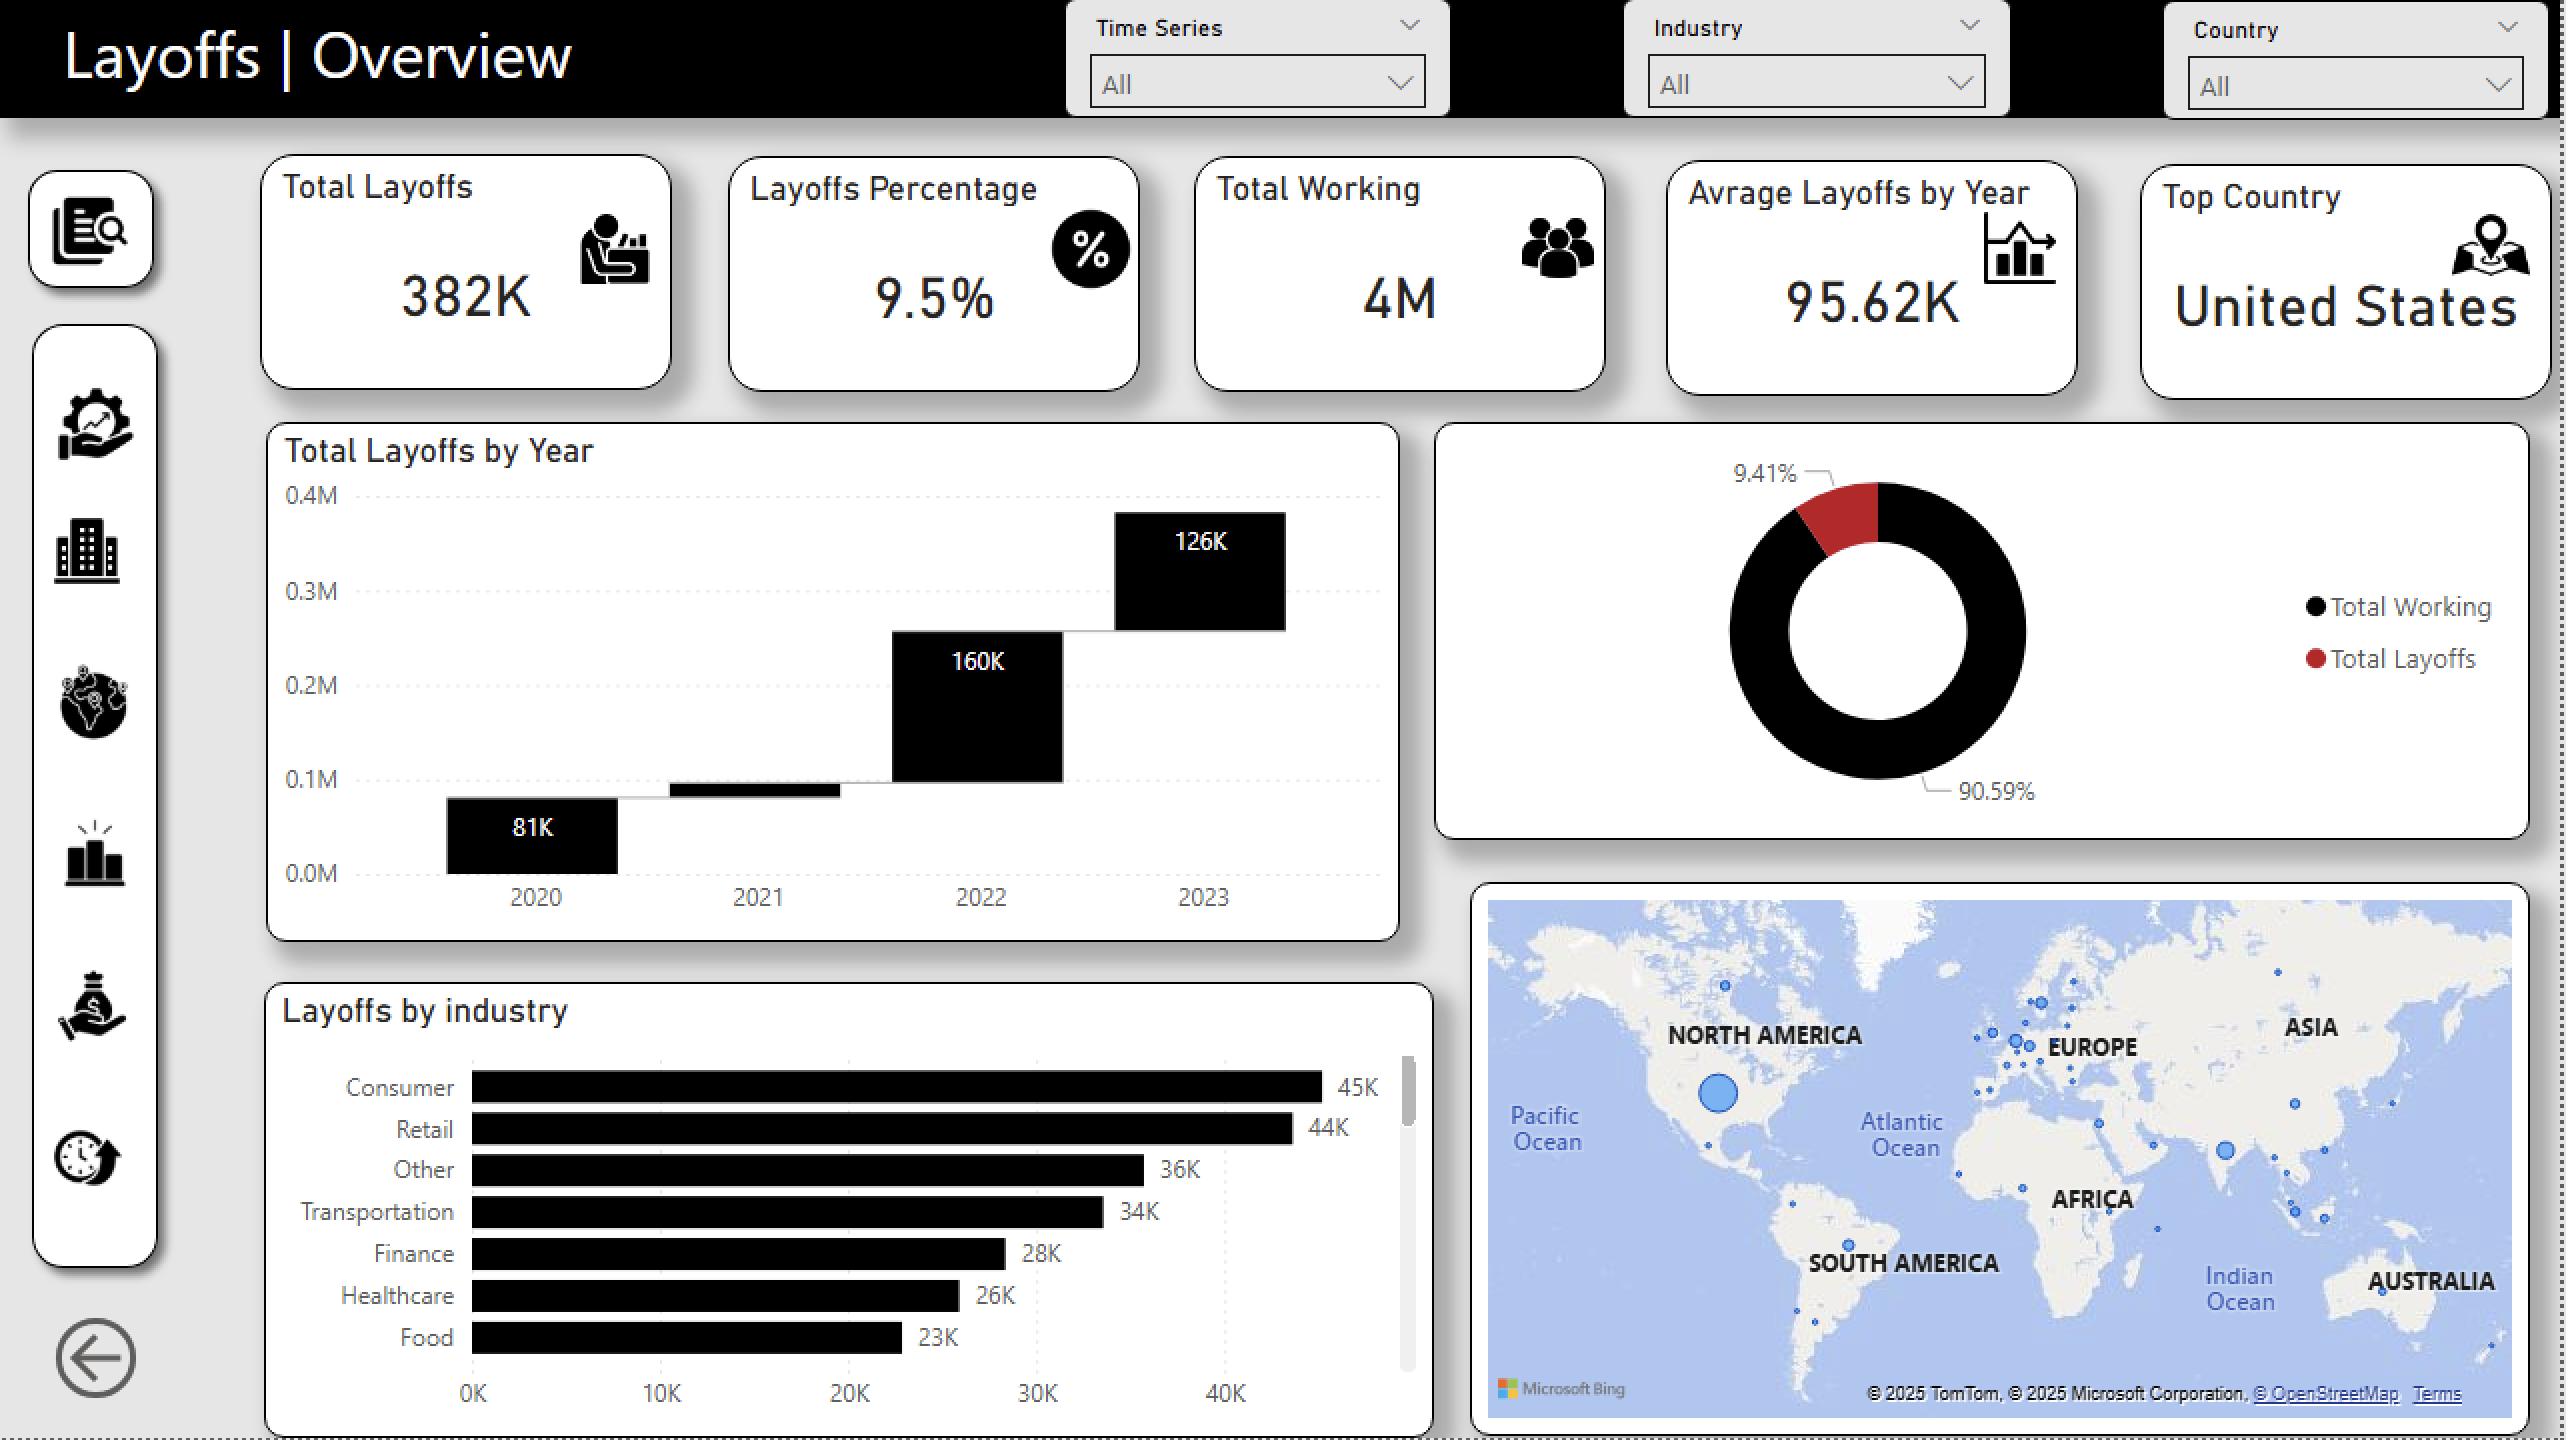

What the dashboard file says about the page in this screenshot:
{"tool":"powerbi","page":{"name":"Overview","canvas":[1280,720],"ordinal":0},"visuals":[{"type":"shape","box":[7.1,153.8,80.4,489.8],"z":0},{"type":"actionButton","box":[23.4,188.4,62.1,49.9],"z":1000},{"type":"actionButton","box":[22.8,328.4,55.7,47.4],"z":2000},{"type":"actionButton","box":[21.4,253.6,55,45.8],"z":3000},{"type":"actionButton","box":[24.4,481.7,56,44.8],"z":4000},{"type":"actionButton","box":[24.6,405.1,54.7,44.7],"z":5000},{"type":"actionButton","box":[22.4,558,45.8,43.8],"z":6000},{"type":"textbox","box":[0,0,1280,60.4],"z":7000},{"type":"card","title":"Total Layoffs","fields":{"Values":["_Measures.Total Layoffs"]},"box":[129.8,78.3,206.1,117.9],"z":8000},{"type":"image","box":[287.2,107.9,40.7,34.6],"z":9000},{"type":"slicer","fields":{"Values":["Calendar.Date.Variation.Date Hierarchy.Year"]},"box":[532,0,194.2,60.4],"z":10000},{"type":"slicer","fields":{"Values":["layoffs_db layoffs_staging2.country"]},"box":[1080.9,1,194.2,60.4],"z":11000},{"type":"slicer","fields":{"Values":["layoffs_db layoffs_staging2.industry"]},"box":[811.4,0,194.2,60.4],"z":12000},{"type":"card","title":"Layoffs Percentage","fields":{"Values":["_Measures.Overall Layoff %"]},"box":[363.6,79.3,206.1,117.9],"z":13000},{"type":"card","title":"Total Working","fields":{"Values":["_Measures.Total Working"]},"box":[597.4,79.3,206.1,117.9],"z":14000},{"type":"image","box":[522.4,104.9,46.8,40.7],"z":15000},{"type":"image","box":[754.6,106.9,48.9,35.6],"z":16000},{"type":"waterfallChart","title":"Total Layoffs by Year","fields":{"Y":["_Measures.YoY Layoffs"],"Category":["Calendar.Date.Variation.Date Hierarchy.Year","Calendar.Date.Variation.Date Hierarchy.Quarter","Calendar.Date.Variation.Date Hierarchy.Month","Calendar.Date.Variation.Date Hierarchy.Day"]},"box":[132.8,212,567.7,259.6],"z":17000},{"type":"card","title":"Avrage Layoffs by Year","fields":{"Values":["_Measures.AVG Layoffs Yearly"]},"box":[833.2,81.2,206.1,117.9],"z":18000},{"type":"card","title":"Top Country","fields":{"Values":["_Measures.Top Country"]},"box":[1070,83.2,206.1,117.9],"z":19000},{"type":"image","box":[1223,103.9,44.8,38.7],"z":20000},{"type":"image","box":[990.8,106.9,38.7,35.6],"z":21000},{"type":"donutChart","fields":{"Y":["_Measures.Total Working","_Measures.Total Layoffs"]},"box":[716.9,211.8,547.8,208.8],"z":22000},{"type":"clusteredBarChart","title":"Layoffs by industry","fields":{"Y":["_Measures.Total Layoffs"],"Category":["layoffs_db layoffs_staging2.industry"]},"box":[132.4,491.8,584.5,228.1],"z":23000},{"type":"map","fields":{"Category":["layoffs_db layoffs_staging2.country"],"Size":["_Measures.Total Layoffs"]},"box":[735.2,441.9,529.5,277],"z":24000},{"type":"shape","box":[5.1,77.4,80.4,76.4],"z":25000},{"type":"actionButton","box":[20.4,91.6,49.9,48.9],"z":26000},{"type":"actionButton","box":[22.4,653.7,51.9,51.9],"z":27000}]}

Visuals, with their boxes in screenshot pixels (x1, y1, x2, y2), scaled from the page's 1280x720 canvas onto the 2566x1440 screenshot:
shape: left=14, top=308, right=175, bottom=1287
actionButton: left=47, top=377, right=171, bottom=477
actionButton: left=46, top=657, right=157, bottom=752
actionButton: left=43, top=507, right=153, bottom=599
actionButton: left=49, top=963, right=161, bottom=1053
actionButton: left=49, top=810, right=159, bottom=900
actionButton: left=45, top=1116, right=137, bottom=1204
textbox: left=0, top=0, right=2565, bottom=121
"Total Layoffs" card: left=260, top=157, right=673, bottom=392
image: left=576, top=216, right=657, bottom=285
slicer - Calendar.Date.Variation.Date Hierarchy.Year: left=1066, top=0, right=1456, bottom=121
slicer - layoffs_db layoffs_staging2.country: left=2167, top=2, right=2556, bottom=123
slicer - layoffs_db layoffs_staging2.industry: left=1627, top=0, right=2016, bottom=121
"Layoffs Percentage" card: left=729, top=159, right=1142, bottom=394
"Total Working" card: left=1198, top=159, right=1611, bottom=394
image: left=1047, top=210, right=1141, bottom=291
image: left=1513, top=214, right=1611, bottom=285
"Total Layoffs by Year" waterfallChart: left=266, top=424, right=1404, bottom=943
"Avrage Layoffs by Year" card: left=1670, top=162, right=2083, bottom=398
"Top Country" card: left=2145, top=166, right=2558, bottom=402
image: left=2452, top=208, right=2542, bottom=285
image: left=1986, top=214, right=2064, bottom=285
donutChart - _Measures.Total Working x _Measures.Total Layoffs: left=1437, top=424, right=2535, bottom=841
"Layoffs by industry" clusteredBarChart: left=265, top=984, right=1437, bottom=1439
map - layoffs_db layoffs_staging2.country x _Measures.Total Layoffs: left=1474, top=884, right=2535, bottom=1438
shape: left=10, top=155, right=171, bottom=308
actionButton: left=41, top=183, right=141, bottom=281
actionButton: left=45, top=1307, right=149, bottom=1411
